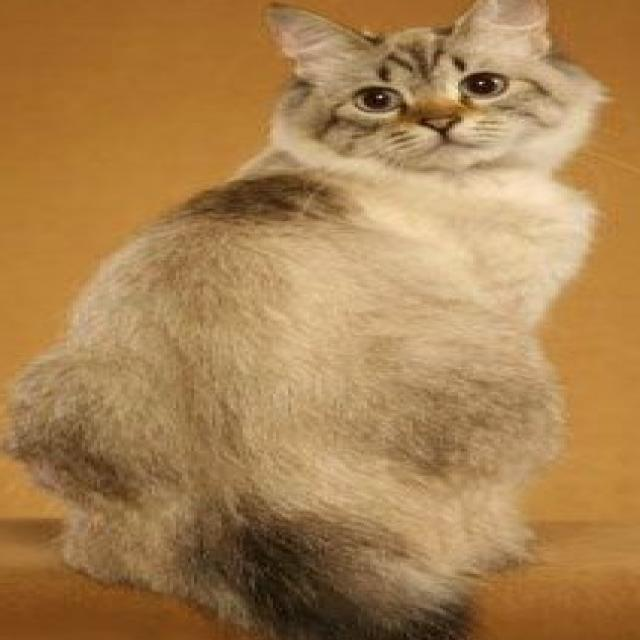American Bobtail: (0, 0, 616, 640)
